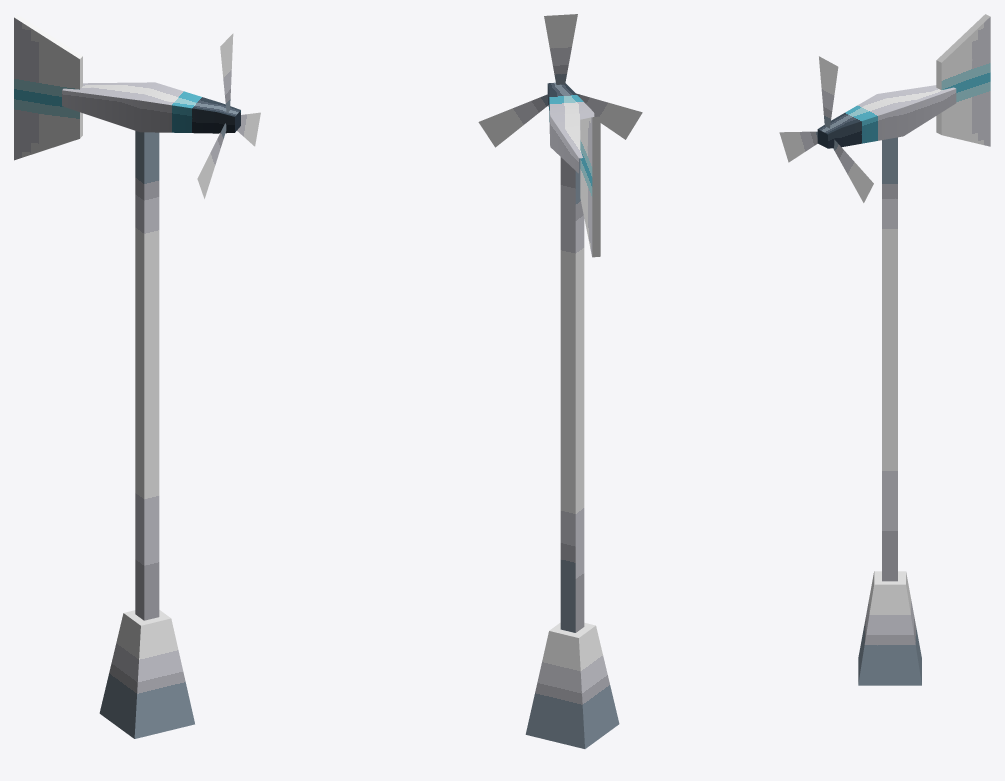
File: Windmill 2.obj
3 views of the same model, side by side, from view 1: azimuth 30°, elevation 25°; view 2: azimuth 150°, elevation 25°; view 3: azimuth 270°, elevation 25° (orthographic). The views are drawn at different scales.
Parts seen in each view (by area): view 1: polygon0, polygon1, polygon2; view 2: polygon0, polygon1, polygon2; view 3: polygon0, polygon1, polygon2.
Part boxes in pixels (x1=…): polygon0: x1=99, y1=131, x2=194, y2=738; polygon1: x1=14, y1=14, x2=240, y2=160; polygon2: x1=197, y1=33, x2=260, y2=198; polygon0: x1=525, y1=157, x2=619, y2=748; polygon1: x1=547, y1=82, x2=600, y2=257; polygon2: x1=478, y1=14, x2=642, y2=147; polygon0: x1=858, y1=137, x2=921, y2=685; polygon1: x1=817, y1=14, x2=990, y2=148; polygon2: x1=779, y1=56, x2=873, y2=202.
Size of the model in its own units: 36.67 by 88.22 by 38.85.
1 material, 1 textured.
